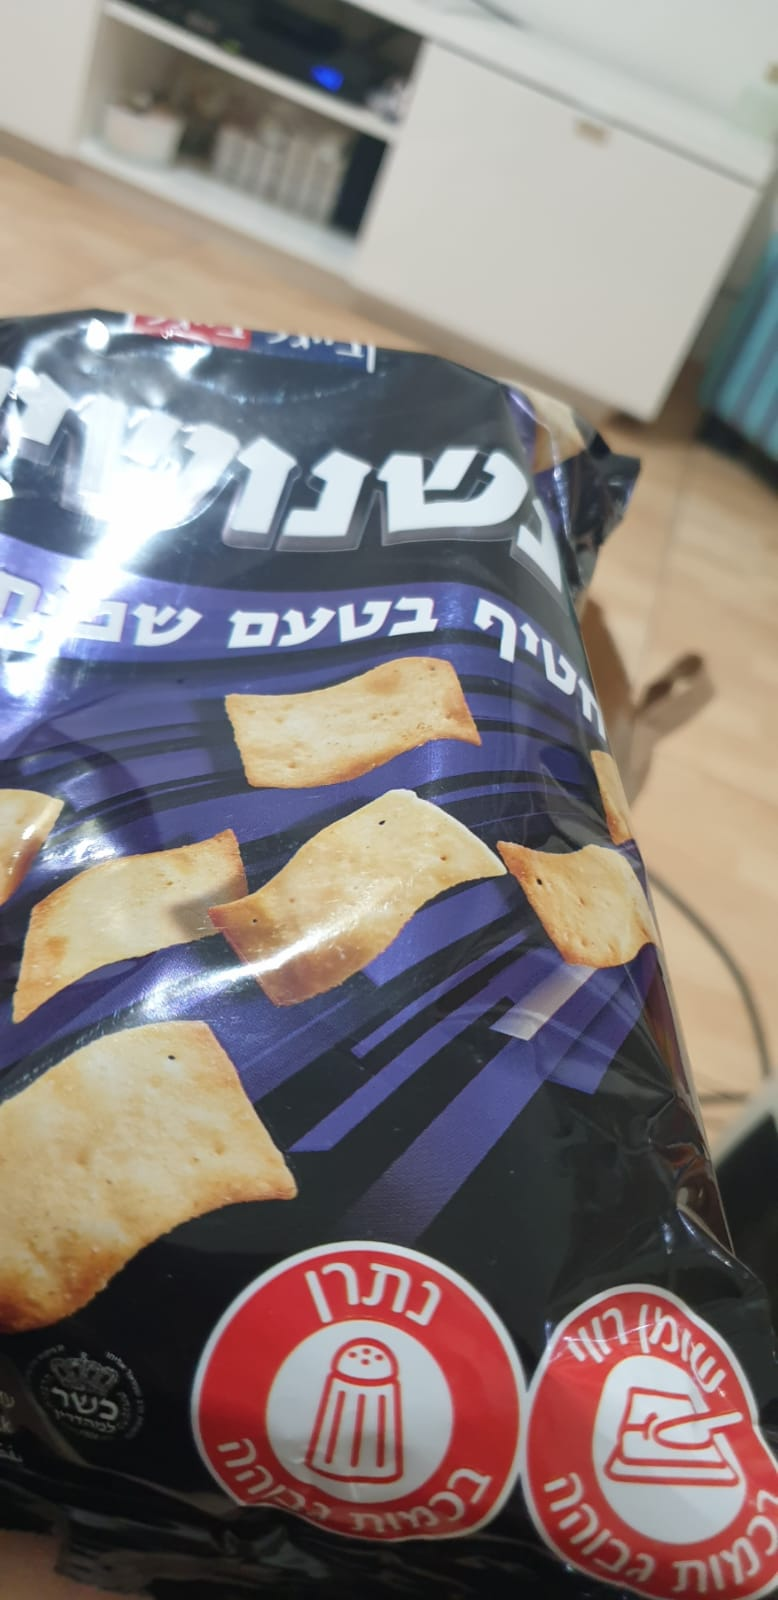fat: (520, 1286, 775, 1600)
salt: (191, 1243, 530, 1543)
